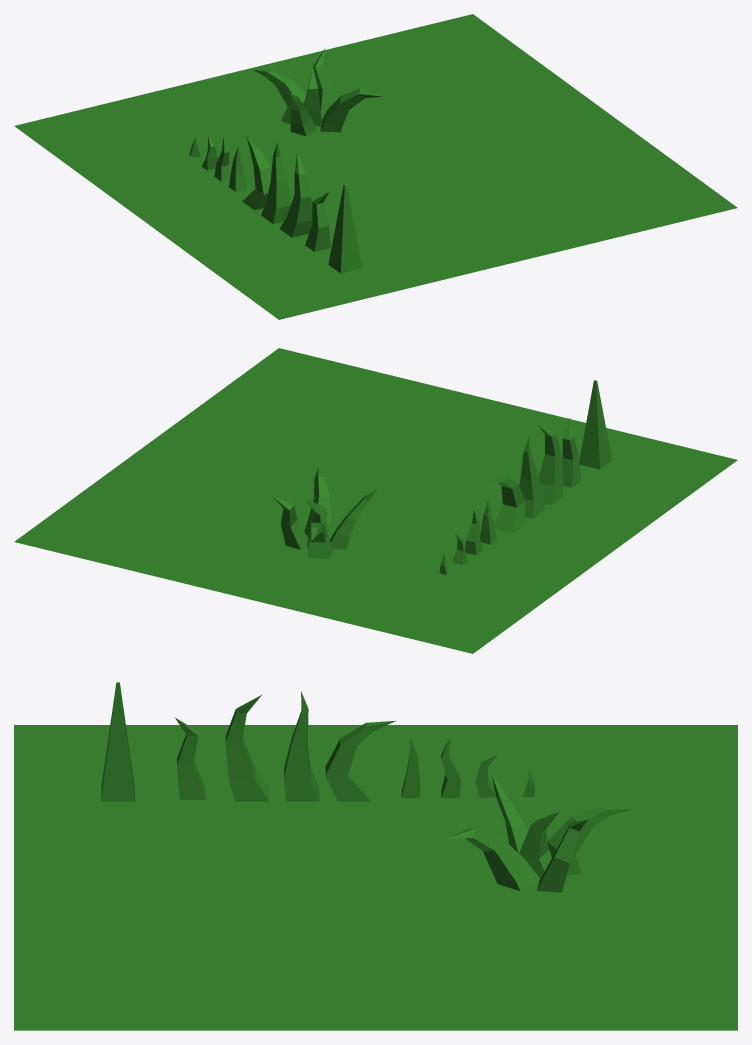
Rendered from Grasses.fbx.
The picture shows the model from 3 angles, top to bottom: view 1: azimuth 30°, elevation 25°; view 2: azimuth 150°, elevation 25°; view 3: azimuth 270°, elevation 25°; orthographic projection. The views are drawn at different scales.
Parts seen in each view (by area): view 1: Plane.001, defaukt, 2, 3, 4, 2.001, 1, 4.001, 1.001, 3.001, 7.001; view 2: Plane.001, defaukt, 2, 4, 3, 1, 1.001, 3.001, 2.001, 4.001; view 3: Plane.001, defaukt, 2, 2.001, 4, 3, 1, 1.001, 4.001, 7.001, 3.001, 6 (+1 smaller).
Boxes of the visible parts, x1,y1,x2,y2 form: Plane.001: (14, 14, 737, 319); defaukt: (328, 184, 361, 273); 2: (279, 152, 312, 237); 3: (261, 143, 291, 224); 4: (242, 136, 271, 210); 2.001: (320, 88, 382, 132); 1: (305, 192, 330, 251); 4.001: (252, 69, 305, 124); 1.001: (313, 48, 335, 120); 3.001: (289, 93, 316, 136); 7.001: (303, 66, 322, 126); Plane.001: (14, 348, 737, 653); defaukt: (579, 380, 612, 469); 2: (538, 424, 563, 505); 4: (490, 476, 525, 532); 3: (519, 436, 544, 518); 1: (562, 418, 580, 487); 1.001: (272, 496, 308, 549); 3.001: (330, 489, 377, 549); 2.001: (304, 467, 331, 538); 4.001: (308, 522, 332, 558); Plane.001: (14, 725, 737, 1030); defaukt: (101, 682, 134, 801); 2: (225, 695, 268, 801); 2.001: (445, 828, 539, 891); 4: (325, 720, 396, 801); 3: (284, 691, 319, 801); 1: (174, 717, 205, 799); 1.001: (537, 819, 587, 892); 4.001: (548, 806, 632, 876); 7.001: (519, 811, 559, 880); 3.001: (491, 774, 527, 853); 6: (441, 738, 460, 798).
Bounding box in the file's own units: 1636 × 338 × 1636.
